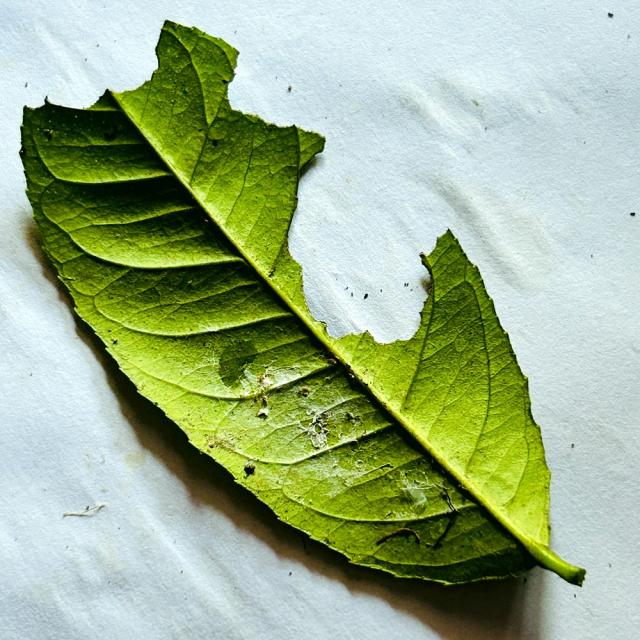Deficiency Leaf: (289, 133, 481, 342), (228, 38, 392, 144), (20, 12, 164, 108)
Lemon: (20, 21, 579, 582)
